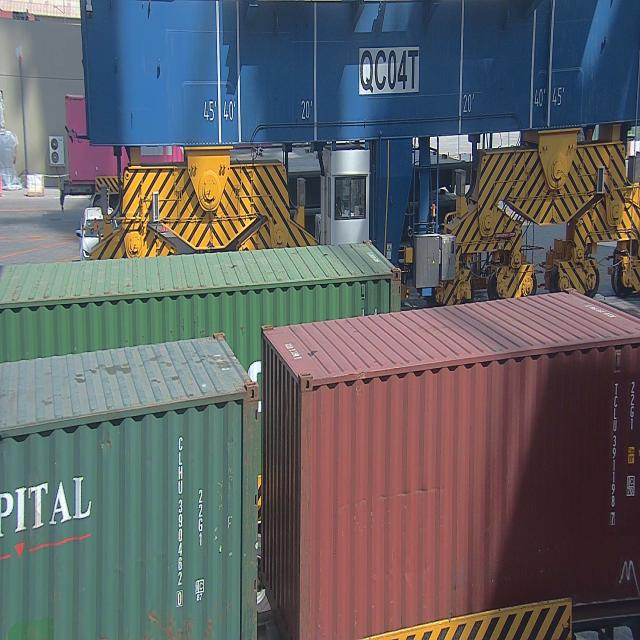dent: (394, 482, 440, 506)
